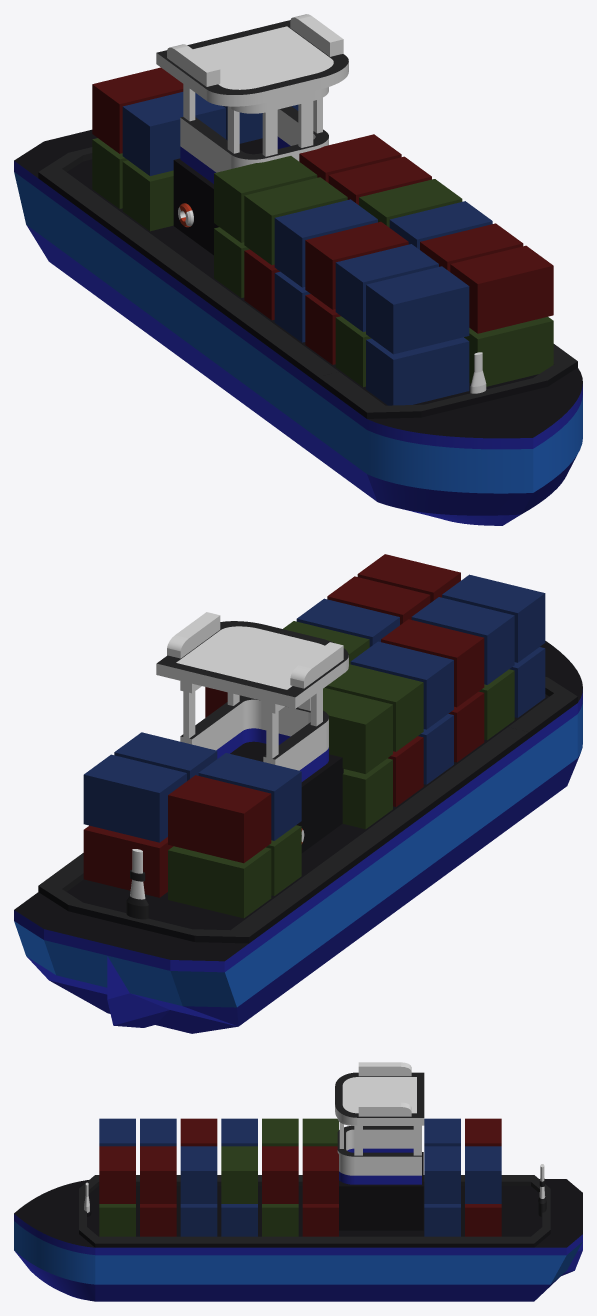
File: Cargo-Ship4.obj
The picture shows the model from 3 angles, top to bottom: view 1: azimuth 30°, elevation 25°; view 2: azimuth 150°, elevation 25°; view 3: azimuth 270°, elevation 25°; orthographic projection. The views are drawn at different scales.
Parts seen in each view (by area): view 1: mergedBlocks; view 2: mergedBlocks; view 3: mergedBlocks.
Part boxes in pixels (x1,y1,x2,y2): mergedBlocks: [14, 14, 582, 525]; mergedBlocks: [14, 554, 582, 1033]; mergedBlocks: [14, 1062, 582, 1301].
Size of the model in its own units: 2 by 2.75 by 7.
